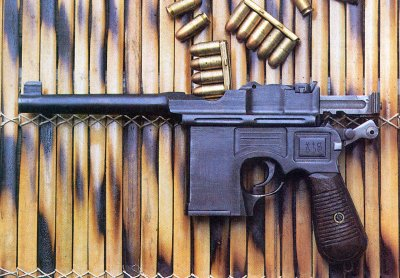rifle: (14, 50, 376, 258)
